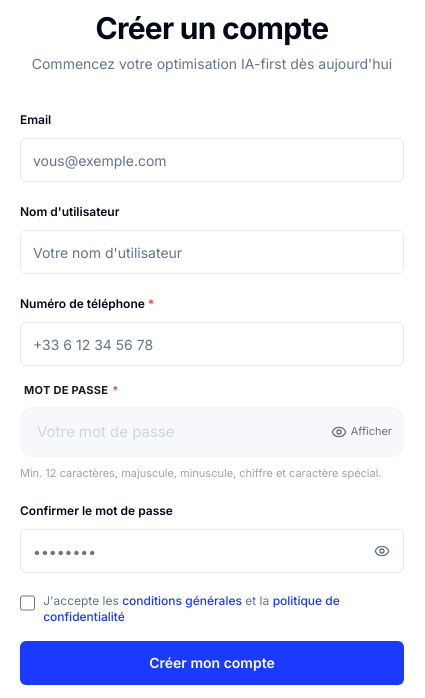
Test case: Auth Flow Integration › Registration Flow › should validate email format
The image size is (425, 698).
Step 1. Type "newuser" into the field with placeholder "Votre nom d'utilisateur" → (212, 252), box [20, 230, 404, 274]
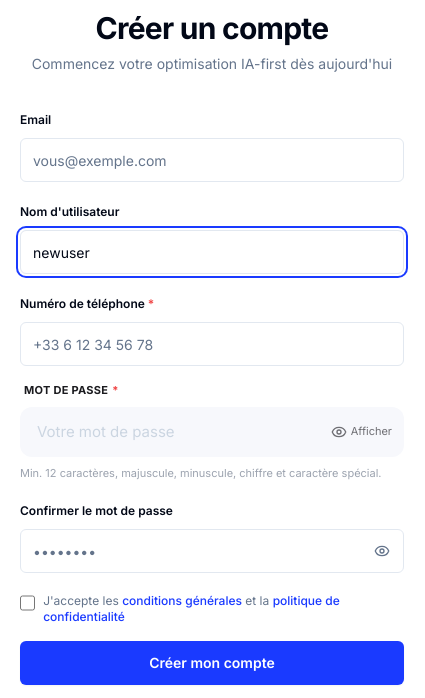
Step 2. Type "invalid-email" into the field with placeholder "vous@exemple.com" → (212, 160), box [20, 138, 404, 182]
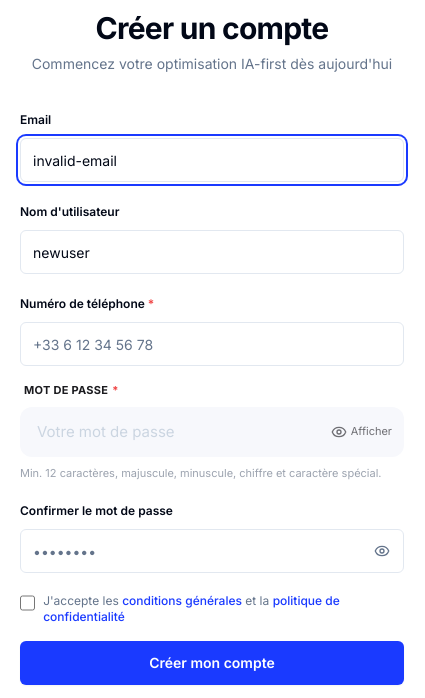
Step 3. Type "Password123!@#" into the password field with placeholder "Votre mot de passe" → (212, 432), box [20, 406, 404, 456]
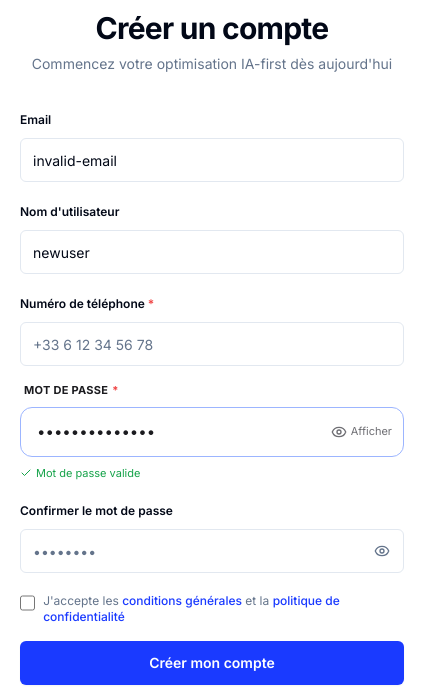
Step 4. Type "Password123!@#" into the password field with placeholder "••••••••" → (212, 551), box [20, 529, 404, 573]
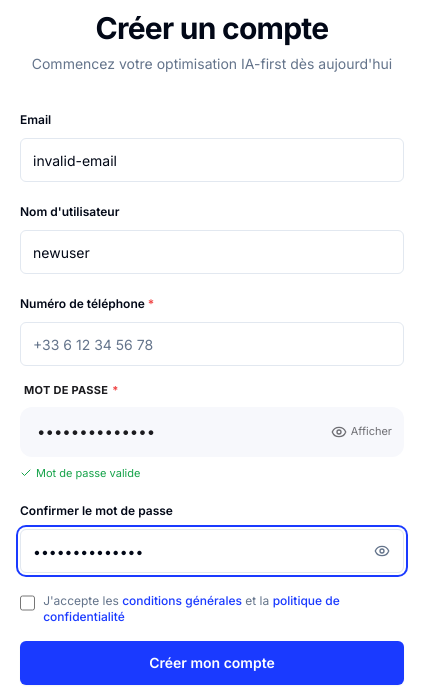
Step 5. Click the checkbox → (28, 603), box [20, 595, 35, 611]
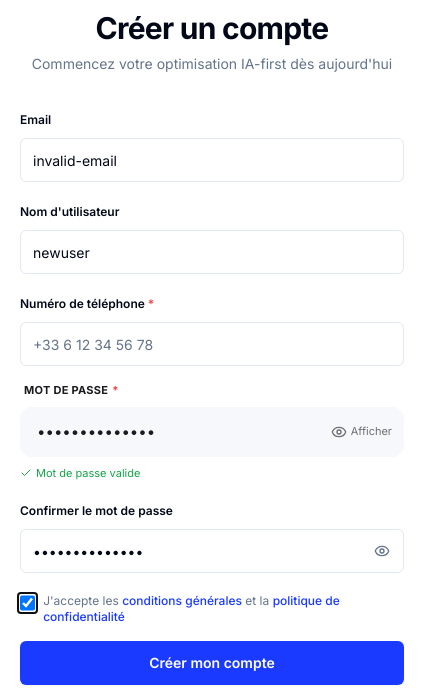
Step 6. Submit the form named "créer mon compte"
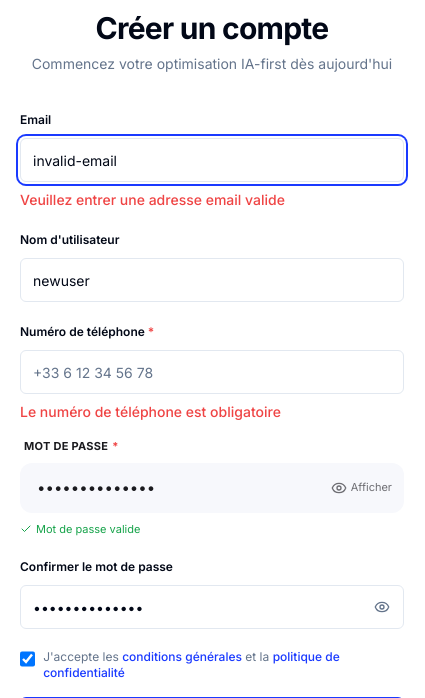
expect the text "Veuillez entrer une adresse email valide" is shown: met, box [20, 191, 285, 208]
